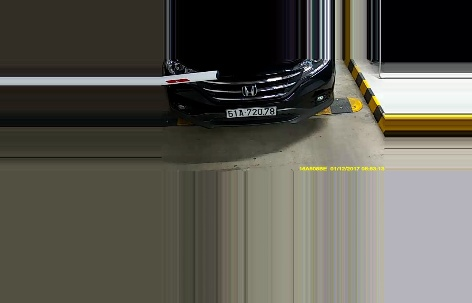plate: (225, 106, 277, 117)
